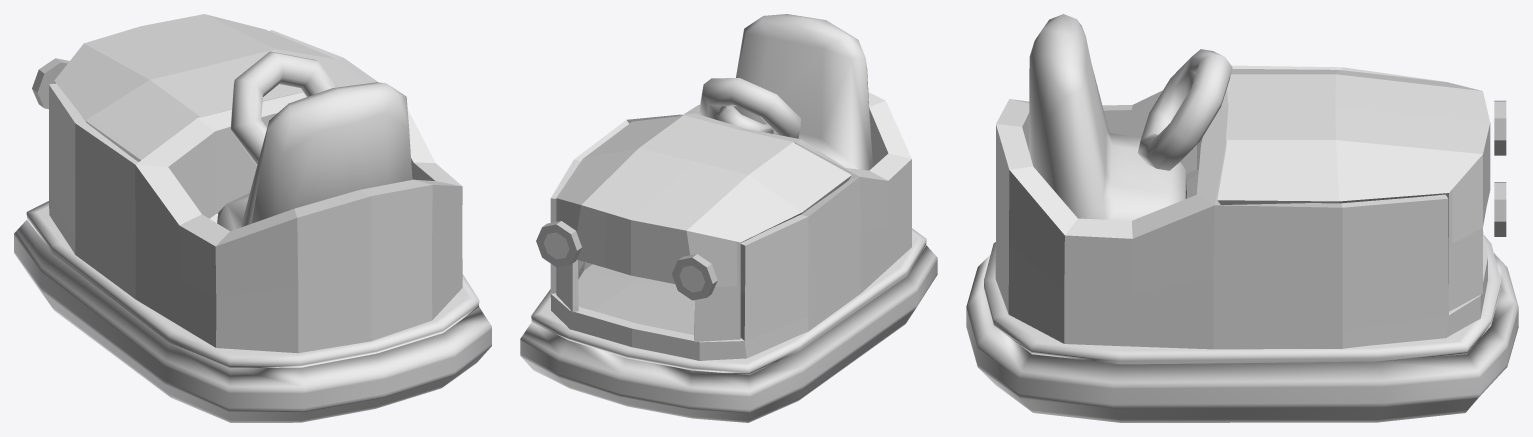
The model's file is bomb enemy.fbx.
3 renders of one model, left to right at view 1: azimuth 30°, elevation 25°; view 2: azimuth 150°, elevation 25°; view 3: azimuth 270°, elevation 25°, orthographic. The views are drawn at different scales.
Parts seen in each view (by area): view 1: bottom.001, Cube.014; view 2: bottom.001, Cube.014; view 3: bottom.001, Cube.014.
Part boxes in pixels (x1=…): bottom.001: x1=14, y1=30, x2=491, y2=422; Cube.014: x1=32, y1=14, x2=369, y2=161; bottom.001: x1=520, y1=14, x2=937, y2=422; Cube.014: x1=536, y1=115, x2=851, y2=341; bottom.001: x1=966, y1=14, x2=1518, y2=422; Cube.014: x1=1217, y1=69, x2=1506, y2=311.
Size of the model in its own units: 278 by 259 by 409.
